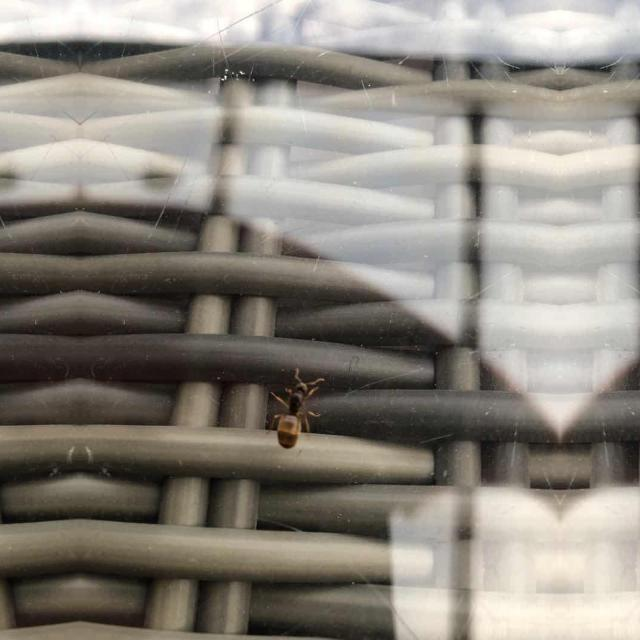Lasius: (266, 372, 324, 452)
